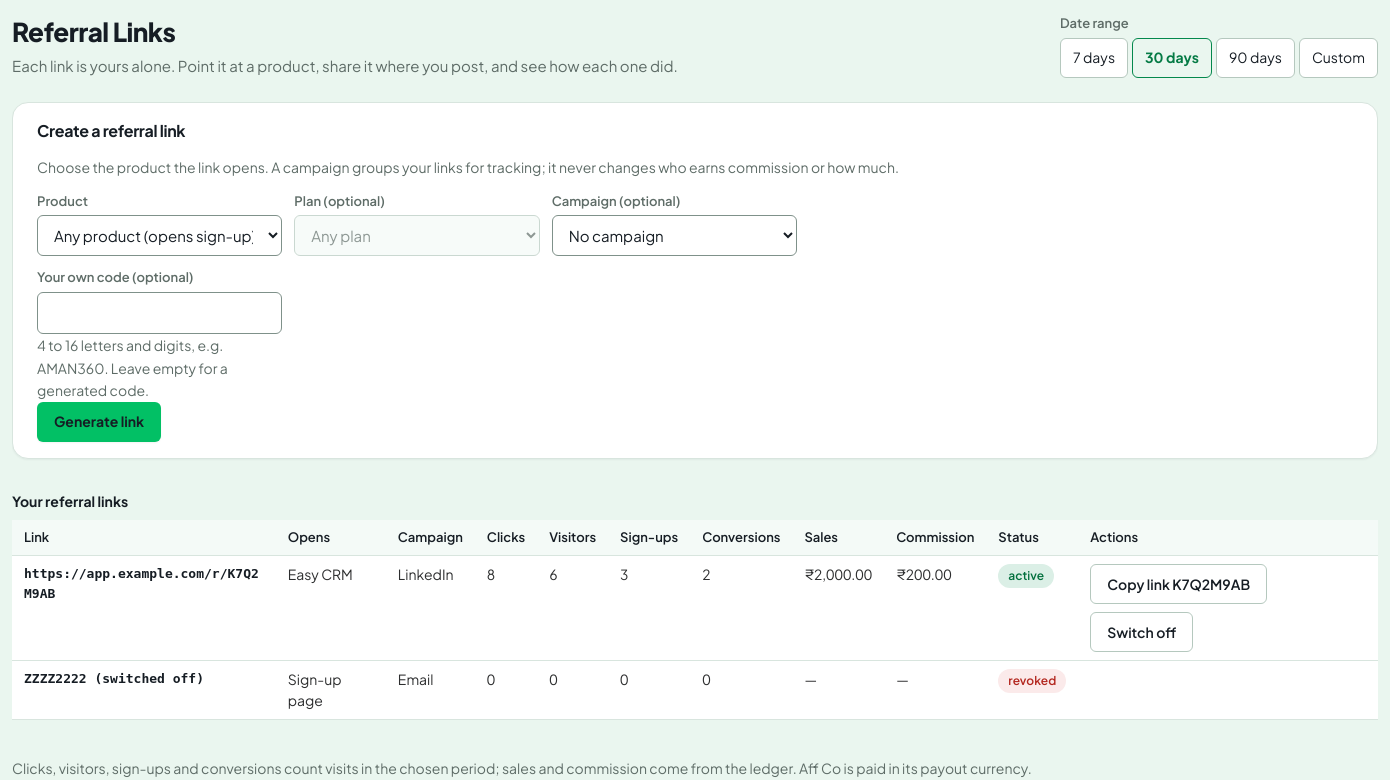
referral links › creates a general link when nothing is chosen
expect the heading "Create a referral link" is shown: met, box [37, 120, 185, 140]
expect the dropdown labelled "Plan (optional)" is disabled: met, box [294, 215, 540, 256]
Click the button "Generate link": {"x": 99, "y": 422} [37, 402, 161, 442]
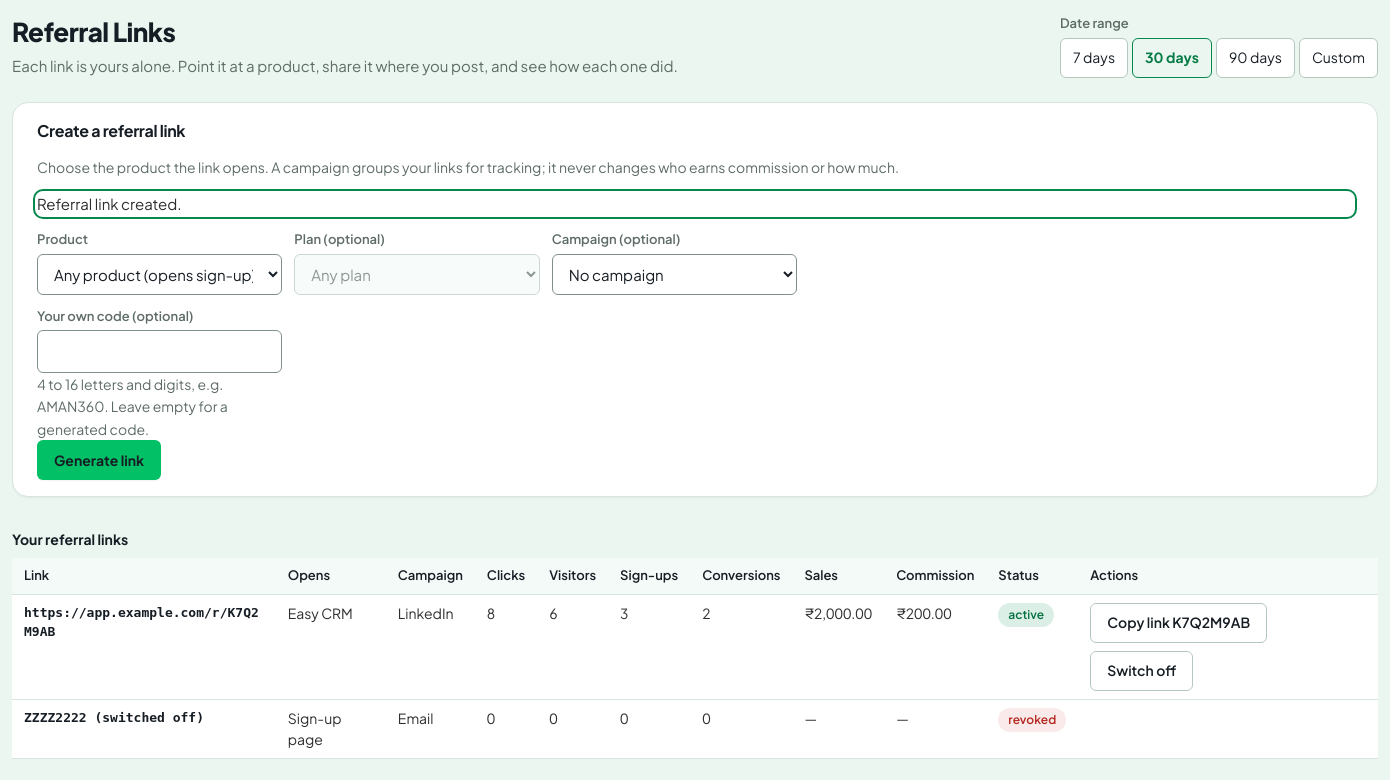
expect the text "Referral link created." is shown: met, box [37, 194, 182, 212]
